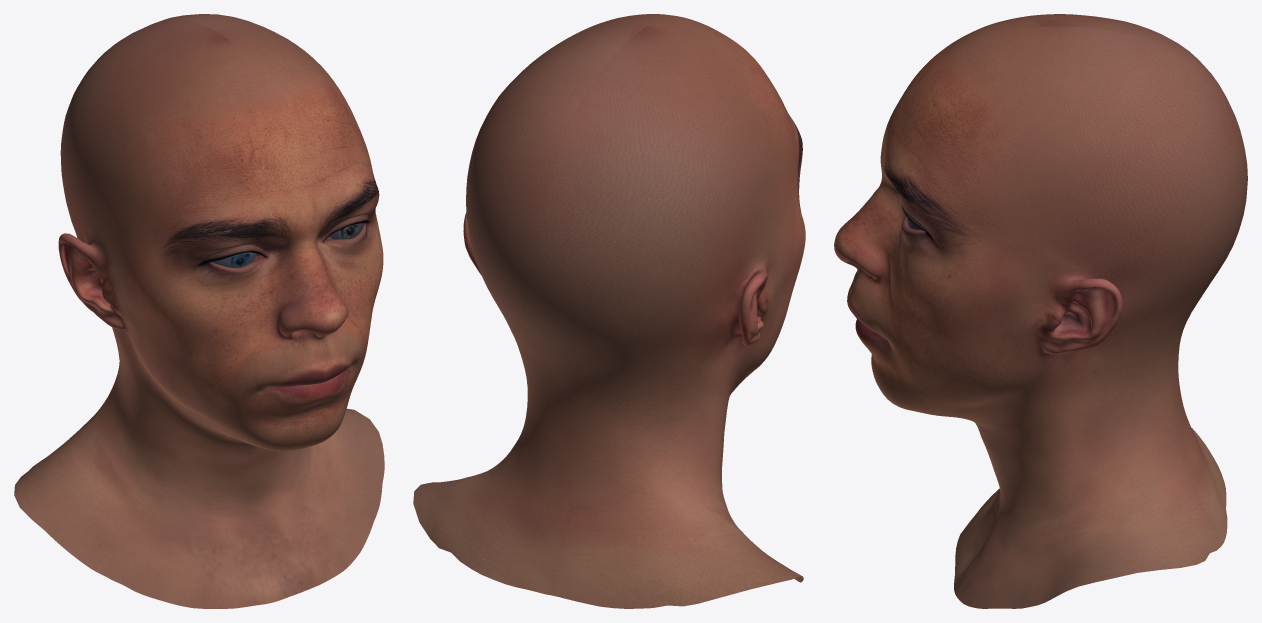
The picture shows the model from 3 angles, left to right: view 1: azimuth 30°, elevation 25°; view 2: azimuth 150°, elevation 25°; view 3: azimuth 270°, elevation 25°; orthographic projection. The views are drawn at different scales.
Parts seen in each view (by area): view 1: Registered head; view 2: Registered head; view 3: Registered head.
Part boxes in pixels (x1,y1,x2,y2): Registered head: (14, 14, 384, 608); Registered head: (413, 14, 805, 608); Registered head: (834, 14, 1247, 608).
Bounding box in the file's own units: 1.29 × 1.88 × 1.28.
3 materials, 3 textured.
